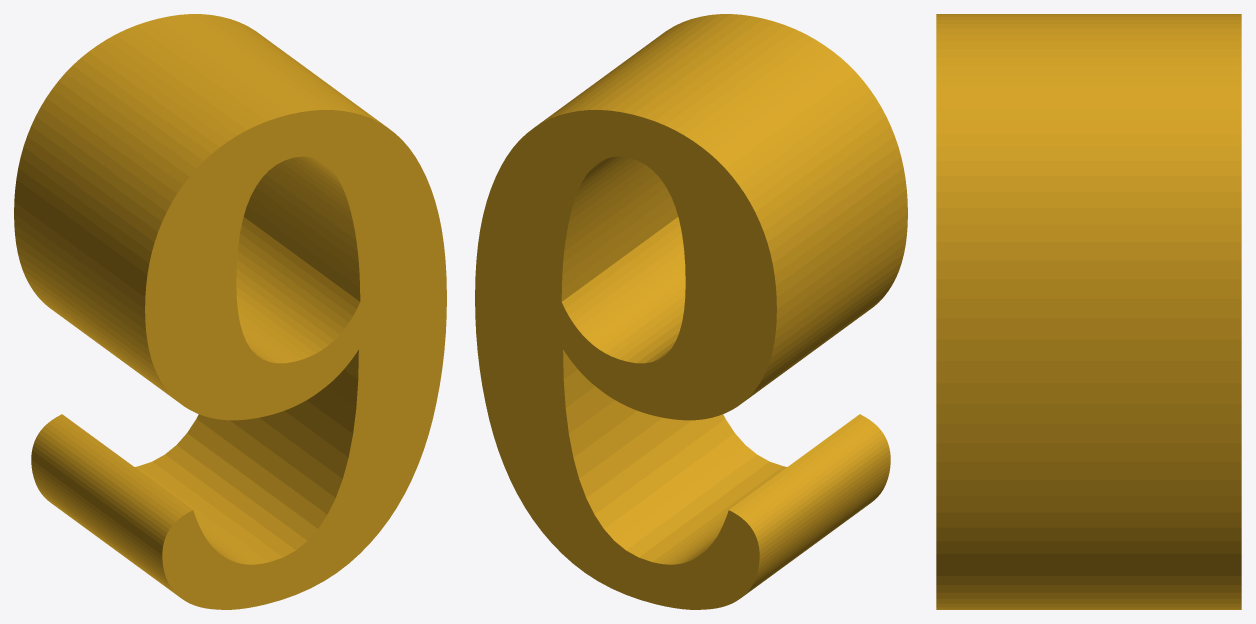
File: tinker.obj
3 views of the same model, side by side, from view 1: azimuth 30°, elevation 25°; view 2: azimuth 150°, elevation 25°; view 3: azimuth 270°, elevation 25° (orthographic). The views are drawn at different scales.
Visible parts, largest first — view 1: obj_0; view 2: obj_0; view 3: obj_0.
Boxes of the visible parts, x1,y1,x2,y2 form: obj_0: (14,14,446,609); obj_0: (475,14,907,609); obj_0: (936,14,1241,609).
Bounding box in the file's own units: 13.3 × 20.38 × 10.
